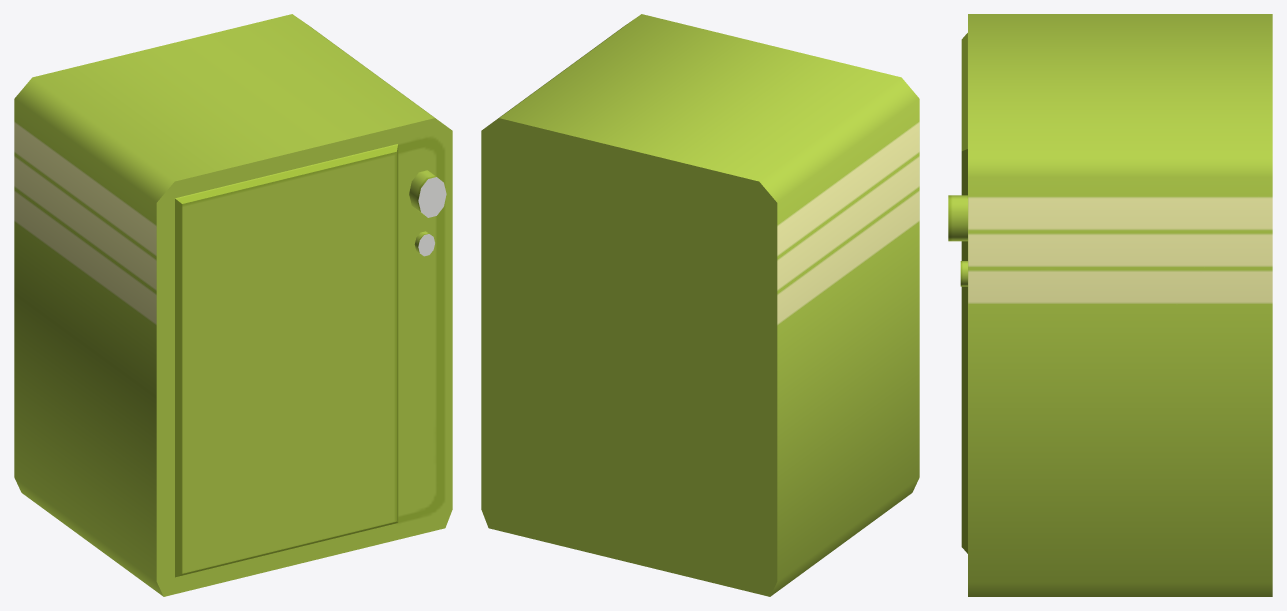
File: scene_item_001BingGui.FBX
3 renders of one model, left to right at view 1: azimuth 30°, elevation 25°; view 2: azimuth 150°, elevation 25°; view 3: azimuth 270°, elevation 25°, orthographic. The views are drawn at different scales.
Visible parts, largest first — view 1: Box041, box042; view 2: Box041; view 3: Box041.
Part boxes in pixels (box(x1,y1,x2,y2)): Box041: box(14, 14, 452, 596); box042: box(182, 151, 396, 573); Box041: box(481, 14, 919, 596); Box041: box(948, 14, 1272, 596).
Size of the model in its own units: 23.62 by 31.5 by 20.97.
2 materials, 2 textured.
